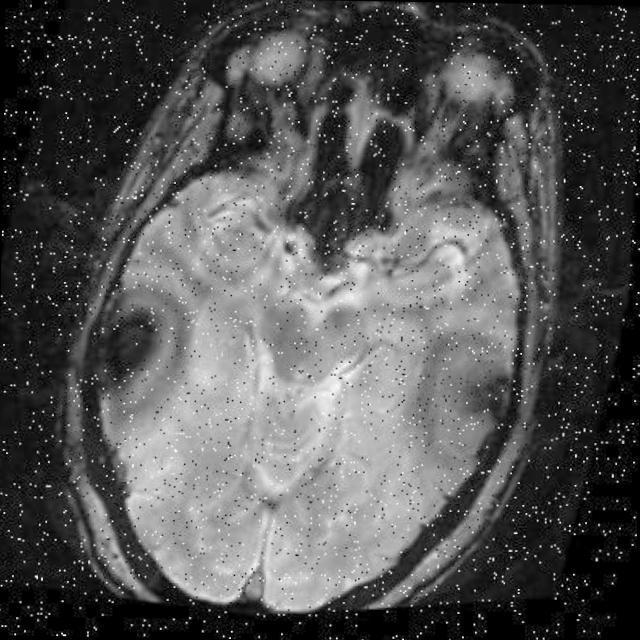EMCI: (387, 329, 526, 486), (291, 154, 437, 286), (80, 270, 192, 424), (182, 174, 280, 268), (431, 240, 484, 302)
